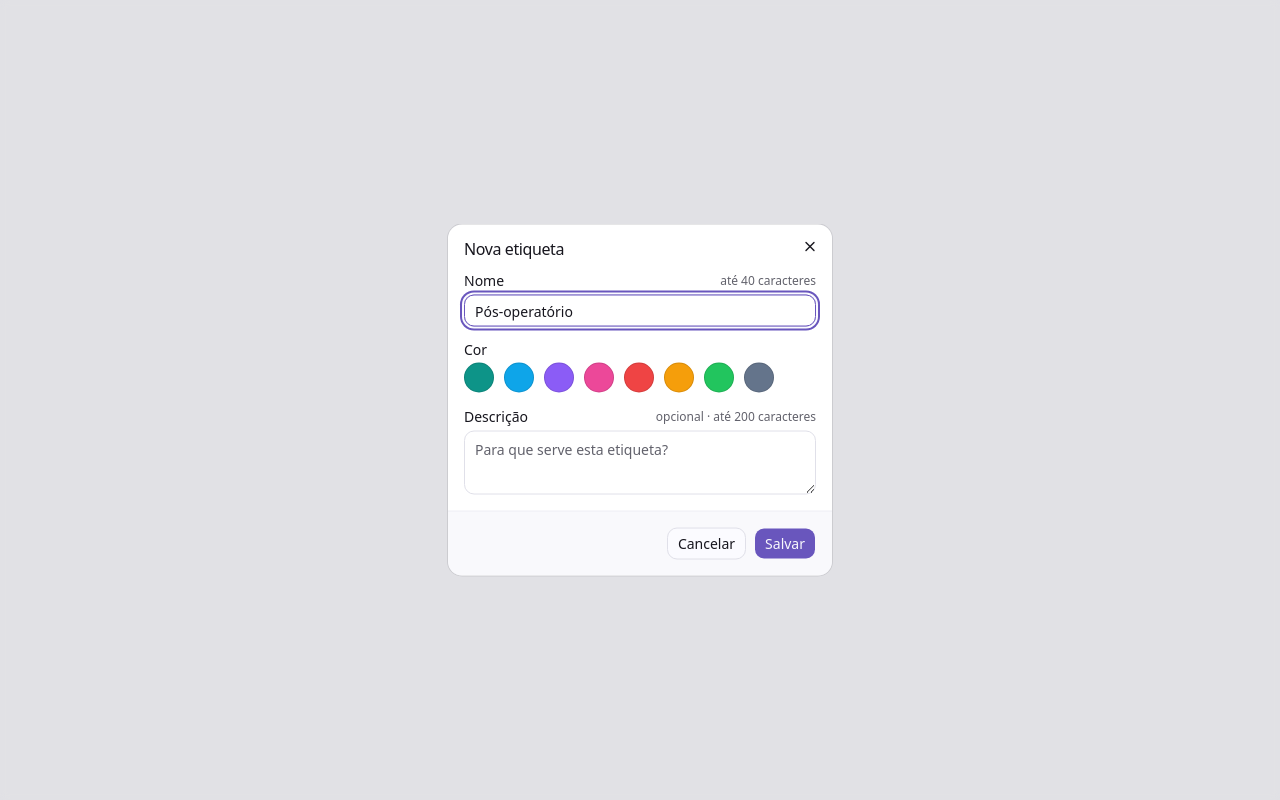
Test: TagCreationDialog › asks for a color before creating
Expected: the field labelled "Nome" is shown, [464,294,816,326]
Click the button "Salvar".
click(785, 544)  # box [754,528,816,560]
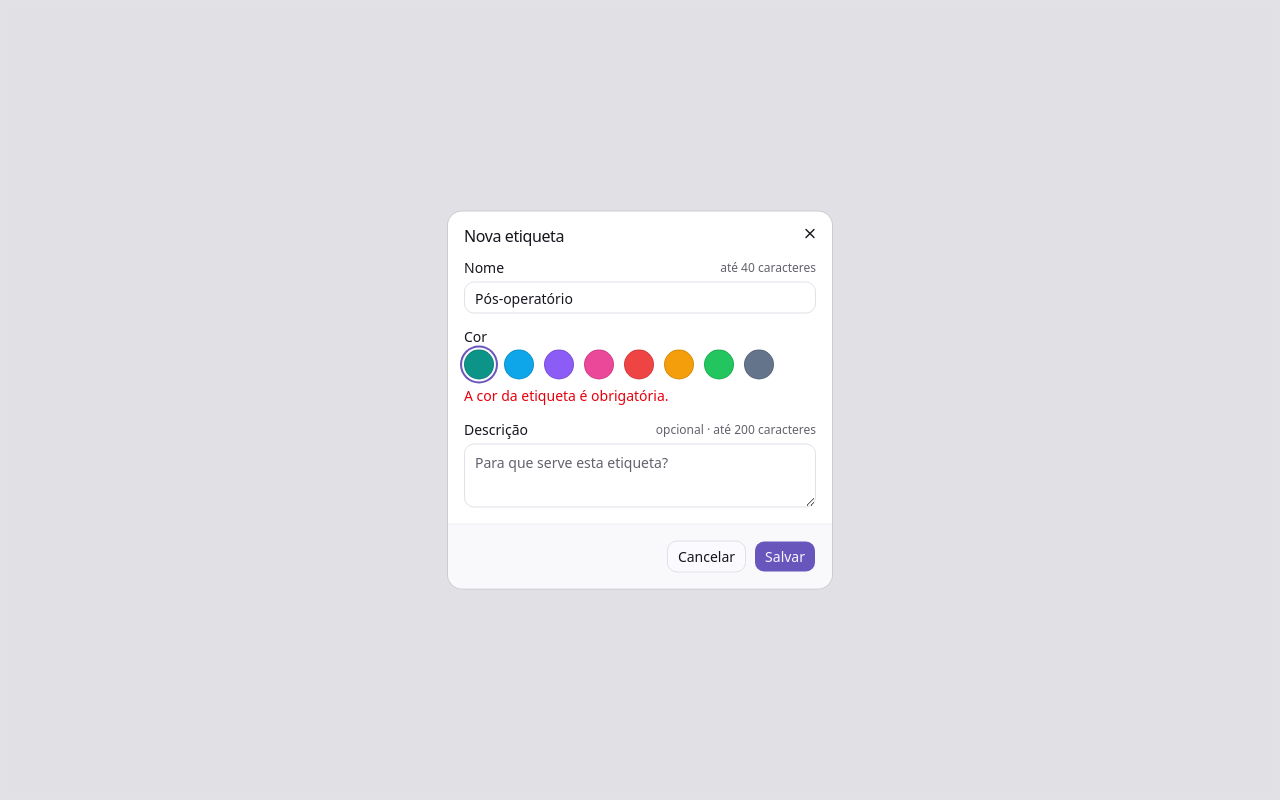
Result: the text "A cor da etiqueta é obrigatória." is shown at [464,386,669,404]
